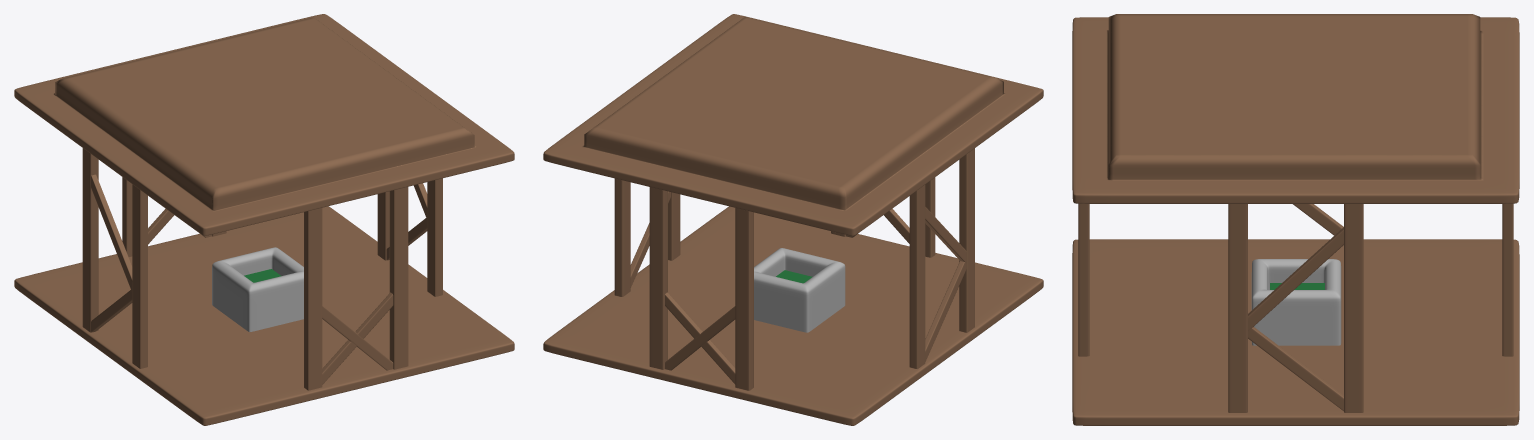
Rendered from 1mCube.gltf.
3 views of the same model, side by side, from view 1: azimuth 30°, elevation 25°; view 2: azimuth 150°, elevation 25°; view 3: azimuth 270°, elevation 25° (orthographic). The views are drawn at different scales.
Visible parts, largest first — view 1: Cube.001, Cube.010; view 2: Cube.001, Cube.010; view 3: Cube.001, Cube.010.
Boxes of the visible parts, <box> form: Cube.001: <box>14,14,514,425</box>; Cube.010: <box>212,247,303,331</box>; Cube.001: <box>543,14,1043,425</box>; Cube.010: <box>754,248,845,332</box>; Cube.001: <box>1072,14,1519,425</box>; Cube.010: <box>1251,259,1341,345</box>.
Bounding box in the file's own units: 9.43 × 6.23 × 10.
